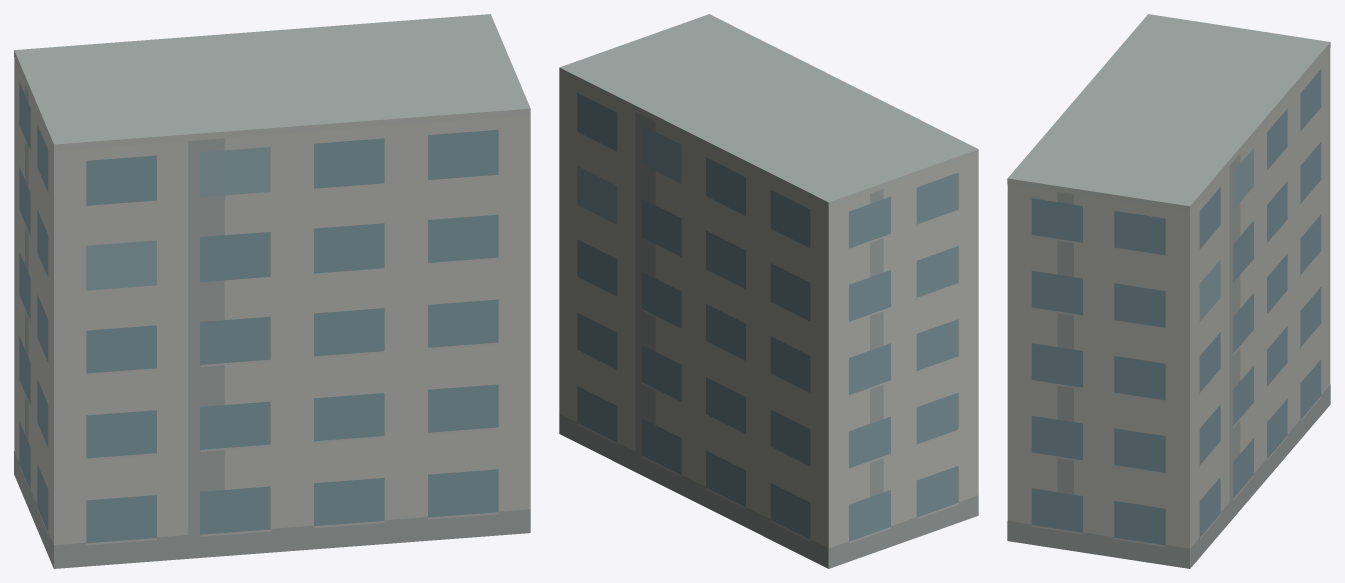
The model's file is residential-98430d3c-464b-4021-9c4a-bd9ac55bee44.glb.
The picture shows the model from 3 angles, left to right: view 1: azimuth 30°, elevation 25°; view 2: azimuth 150°, elevation 25°; view 3: azimuth 270°, elevation 25°; orthographic projection. The views are drawn at different scales.
Parts seen in each view (by area): view 1: residential-98430d3c-464b-4021-9c4a-bd9ac55bee44.tmp; view 2: residential-98430d3c-464b-4021-9c4a-bd9ac55bee44.tmp; view 3: residential-98430d3c-464b-4021-9c4a-bd9ac55bee44.tmp.
Part boxes in pixels (x1=…): residential-98430d3c-464b-4021-9c4a-bd9ac55bee44.tmp: x1=14, y1=14, x2=530, y2=568; residential-98430d3c-464b-4021-9c4a-bd9ac55bee44.tmp: x1=559, y1=14, x2=978, y2=568; residential-98430d3c-464b-4021-9c4a-bd9ac55bee44.tmp: x1=1007, y1=14, x2=1330, y2=568.
Size of the model in its own units: 17.35 by 15.25 by 12.32.
